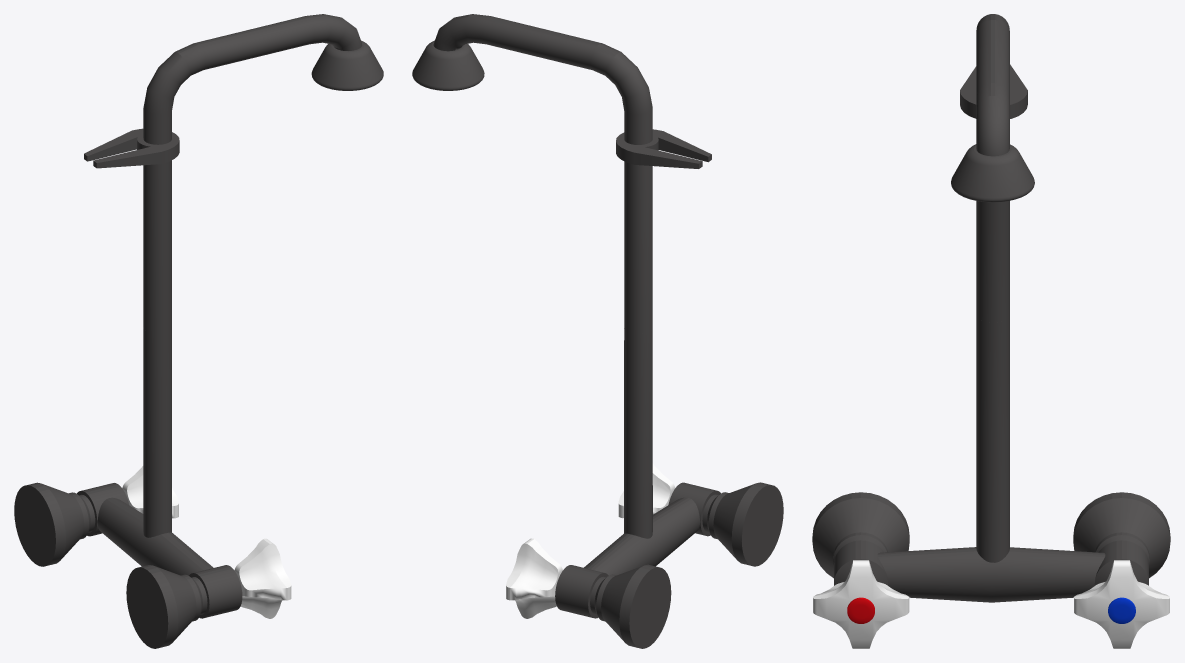
Rendered from prysznic.fbx.
3 views of the same model, side by side, from view 1: azimuth 30°, elevation 25°; view 2: azimuth 150°, elevation 25°; view 3: azimuth 270°, elevation 25° (orthographic). The views are drawn at different scales.
Visible parts, largest first — view 1: Kostka; view 2: Kostka; view 3: Kostka.
Part boxes in pixels (<box>): Kostka: <box>14,14,383,648</box>; Kostka: <box>412,14,783,648</box>; Kostka: <box>812,14,1170,648</box>.
Size of the model in its own units: 169 by 299 by 156.
